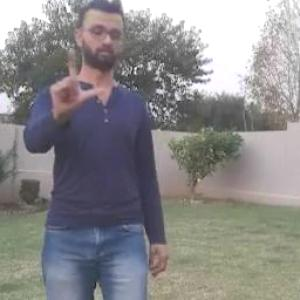land_hand: (46, 40, 108, 117)
